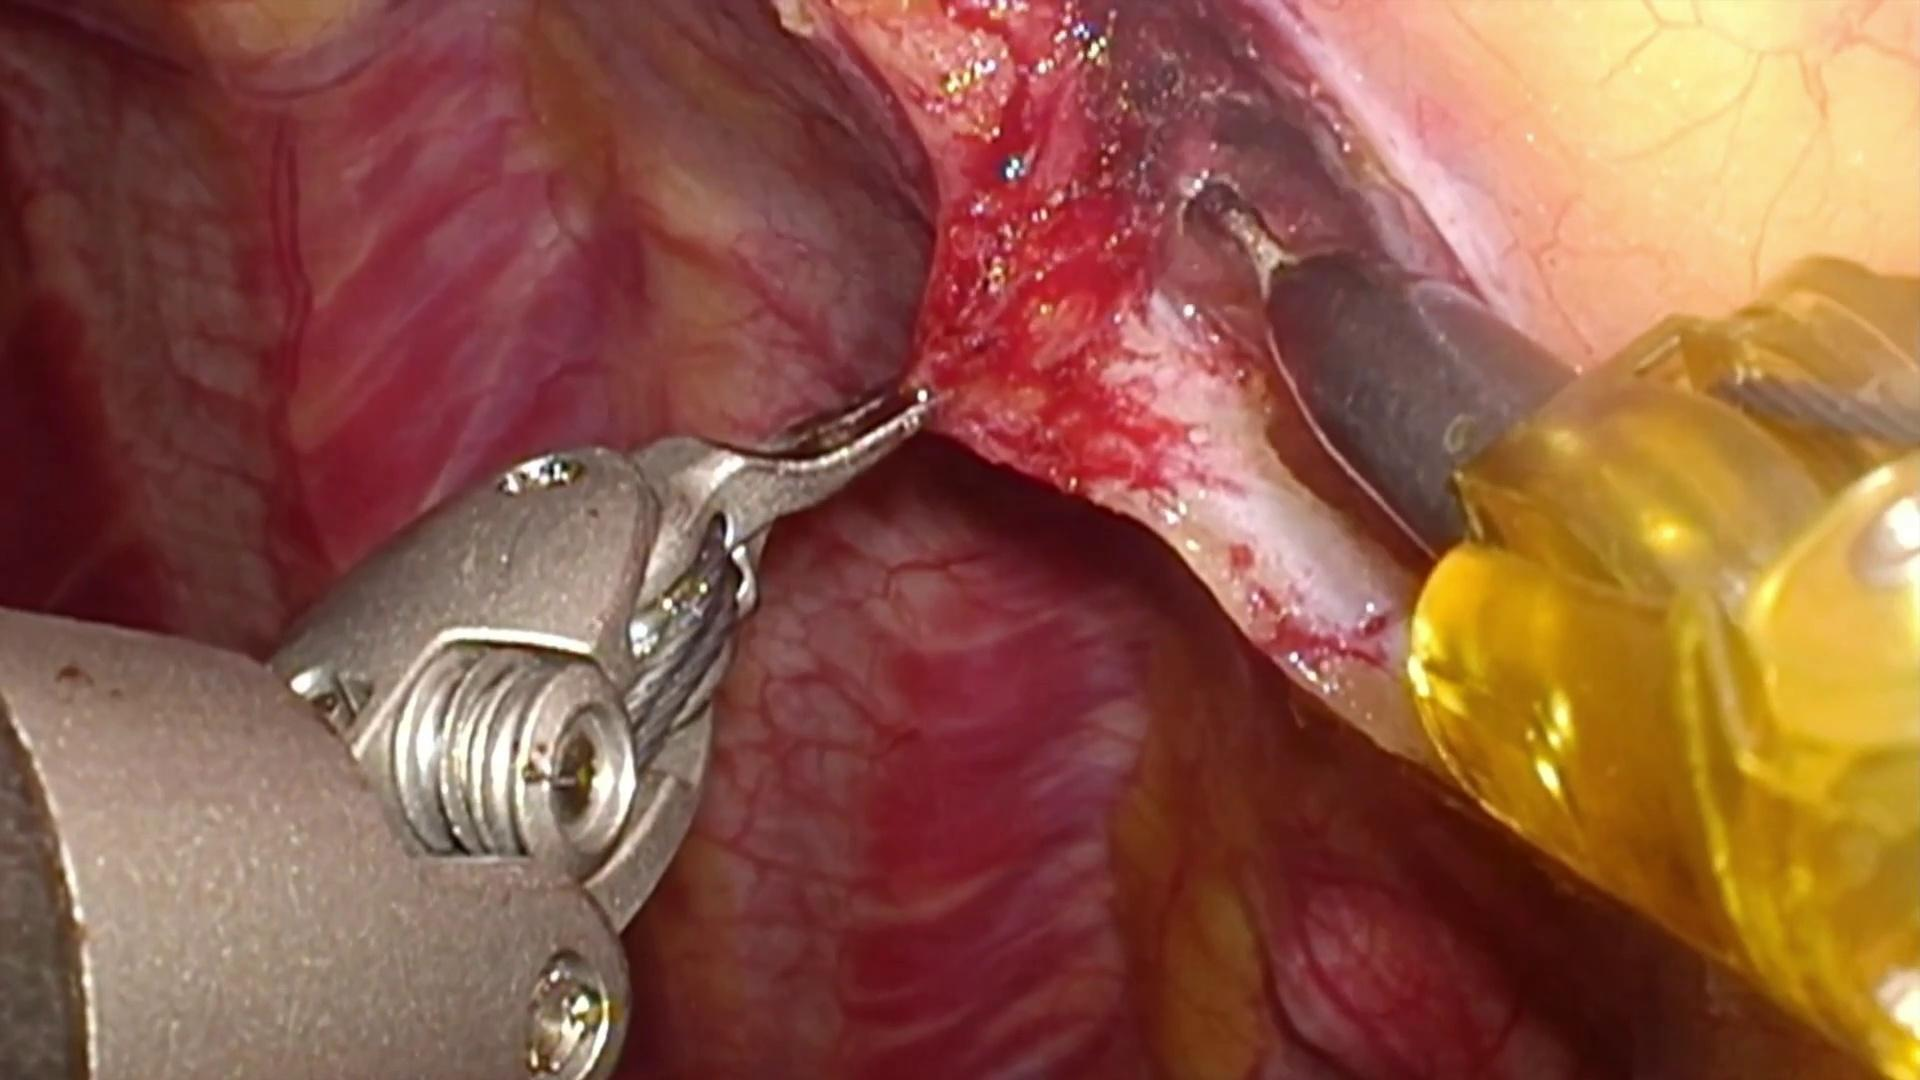Cautery_Spatula: (1184, 182, 1580, 554)
Debakey: (628, 331, 957, 604)
